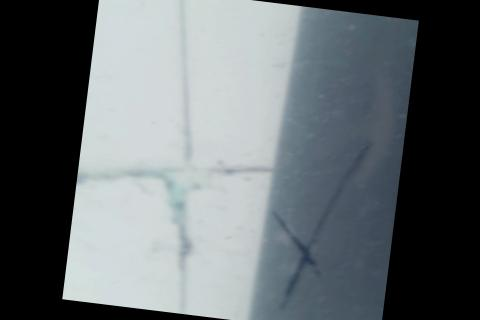keretakan: (261, 126, 376, 319)
